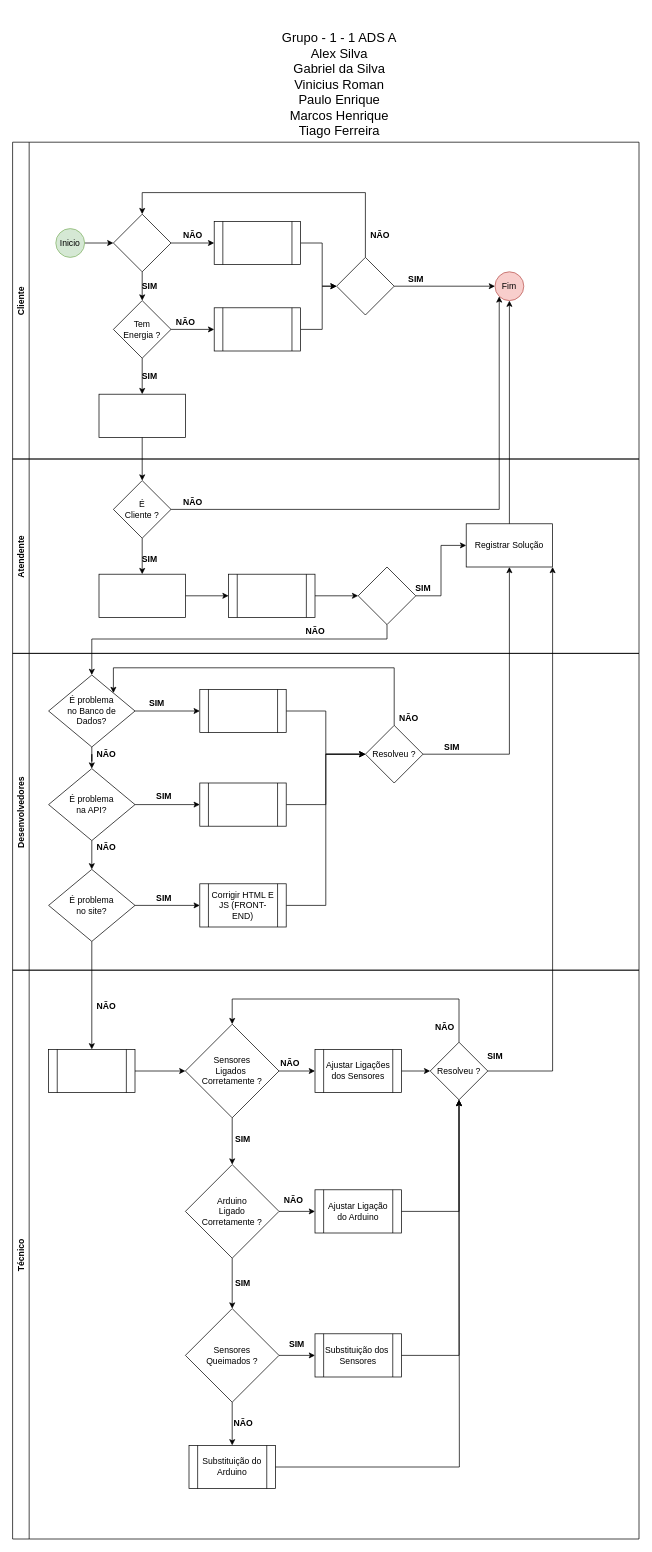
Image size: 652x1552. Some labels were removed from this diagram. The centre of each missing label's shape, as x and y in pixels:
Abrir Chamado: (141,415)
Consegue Resolver ?: (386,595)
Corrigir API: (242,804)
Corrigir Banco de dados: (242,711)
Corrigir problemas de energia.: (257,329)
Corrigir problemas de internet.: (257,243)
Enviar Técnico ao local: (91,1071)
Funcionou ?: (365,286)
Identificar Problema: (271,595)
Registrar Chamado: (141,595)
Tem Internet ?: (142,242)
